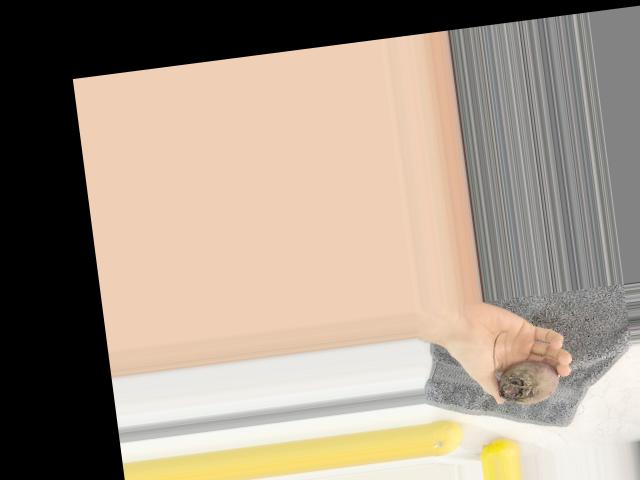beet: (491, 324, 562, 407)
